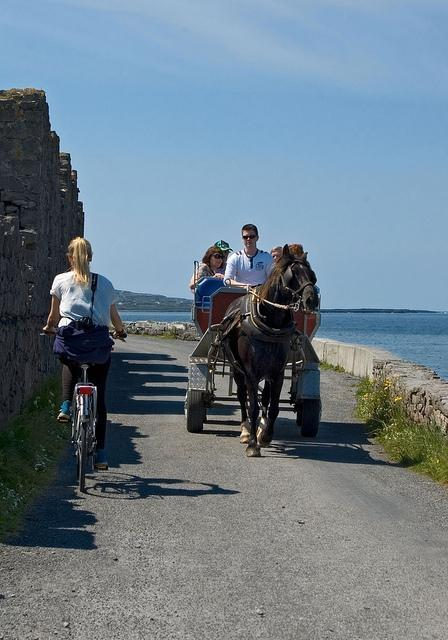bicycle: (67, 355, 98, 493)
